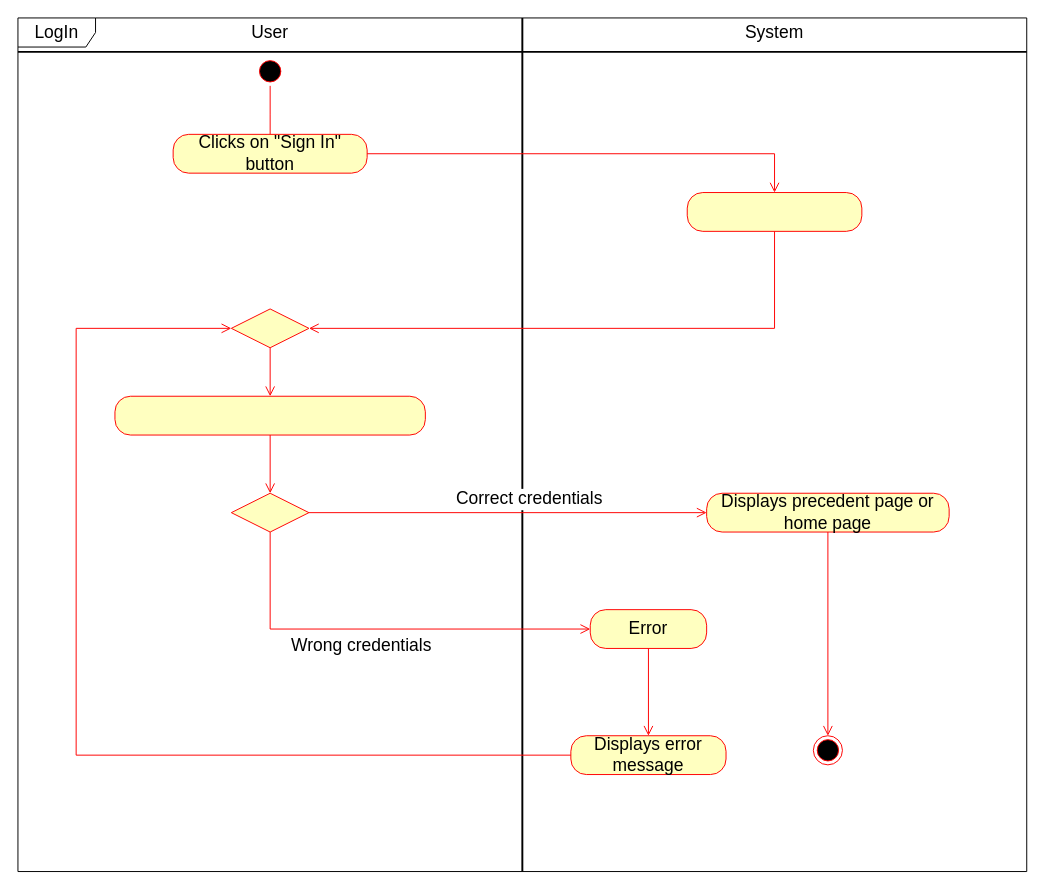
Some shapes in this 1044 by 889 pixel diagram are drawn without their labels. The box of each missing label's shape, as (x1, y1, x2, y2) in pixels:
Displays login page: (686, 192, 862, 231)
Inserts credentials: (114, 395, 425, 435)
